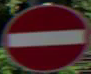No entry: (4, 11, 85, 64)
